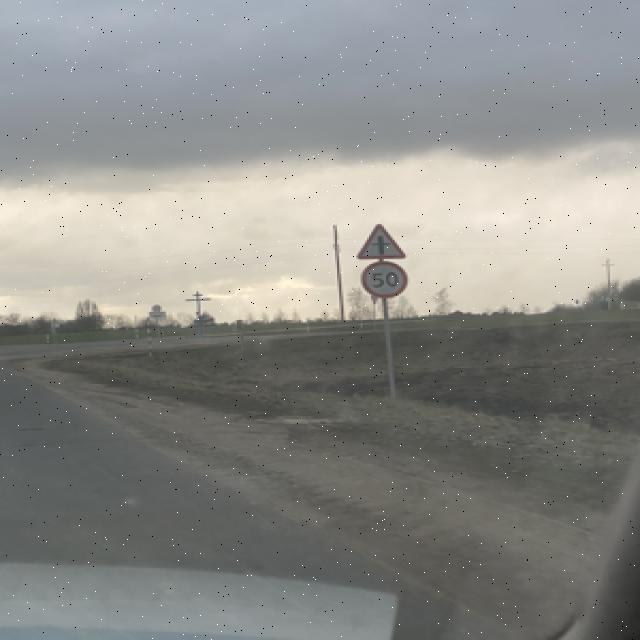Speedlimit: (358, 259, 407, 298)
